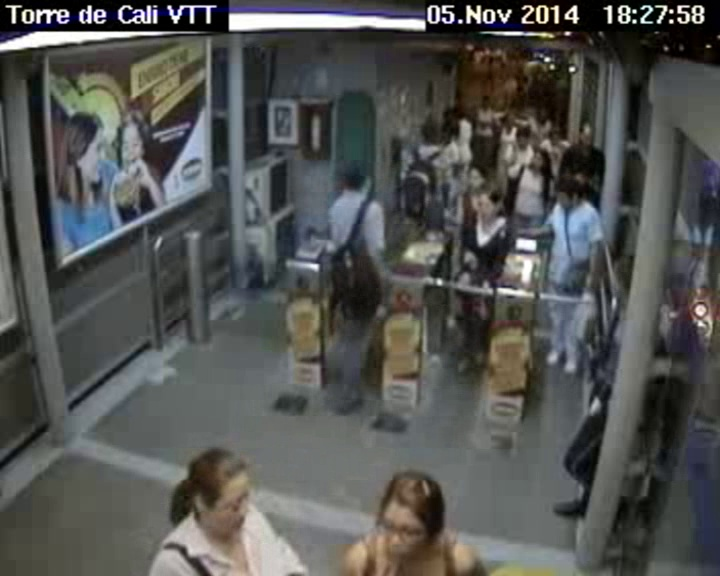person: (163, 438, 265, 543), (363, 467, 454, 563), (554, 177, 592, 221), (474, 183, 510, 227), (609, 253, 639, 301), (333, 158, 368, 193), (457, 163, 488, 194), (415, 117, 440, 149), (574, 122, 602, 150), (530, 142, 552, 173), (436, 121, 453, 145), (499, 113, 513, 131), (448, 106, 467, 119), (480, 94, 492, 113), (517, 129, 529, 147), (547, 129, 559, 145)
